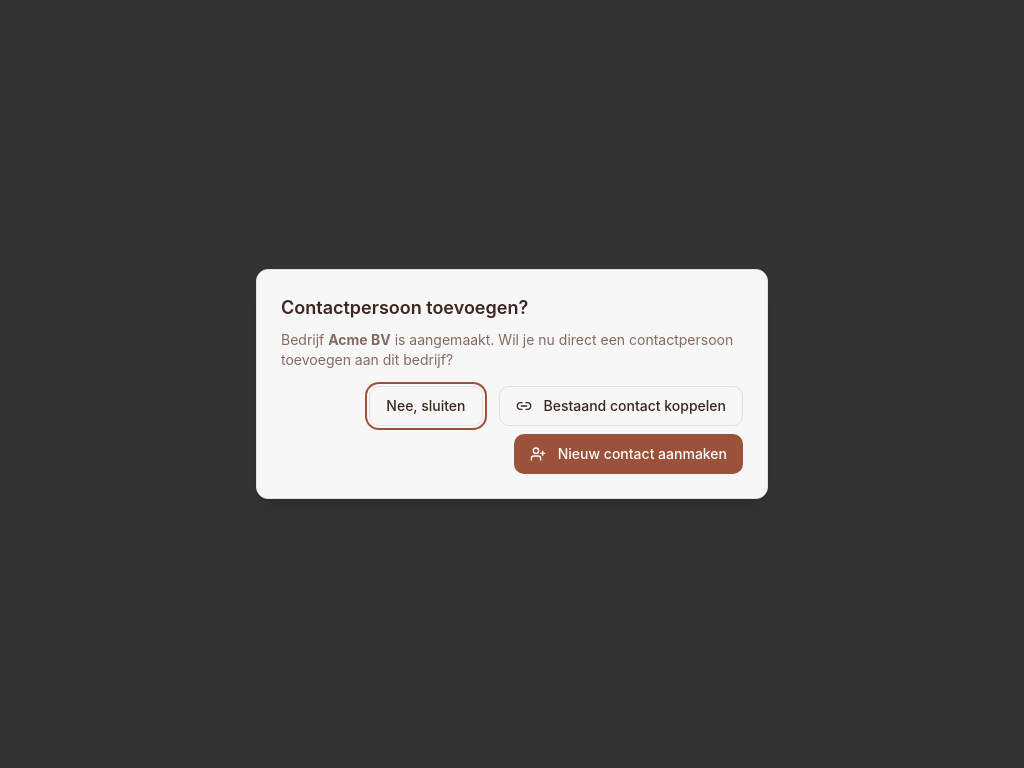
Scenario: PostCompanyContactFlow › "Ja, nog één" reopens the form with empty fields
Click the button "Nieuw contact aanmaken".
click(628, 454)  # box x1=514 y1=434 x2=743 y2=474
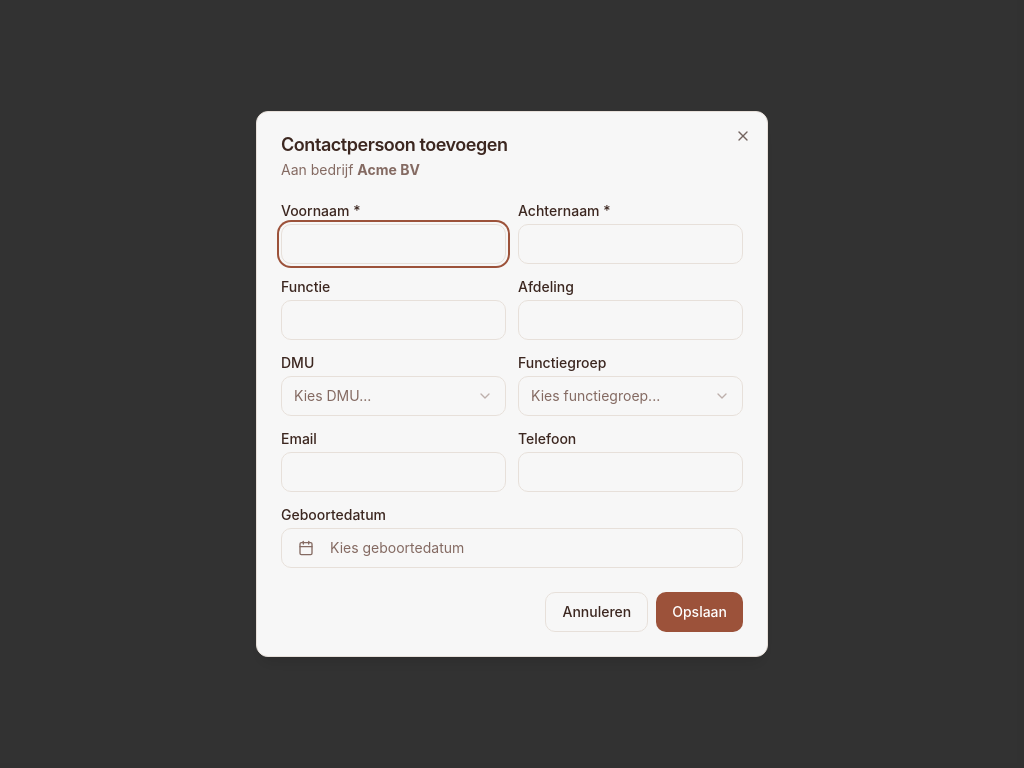
Expected: the heading "Contactpersoon toevoegen" is shown, x1=281 y1=134 x2=508 y2=155
Type "Jan" into the field below "Voornaam *".
click(394, 244); type("Jan")  # box x1=281 y1=224 x2=506 y2=264
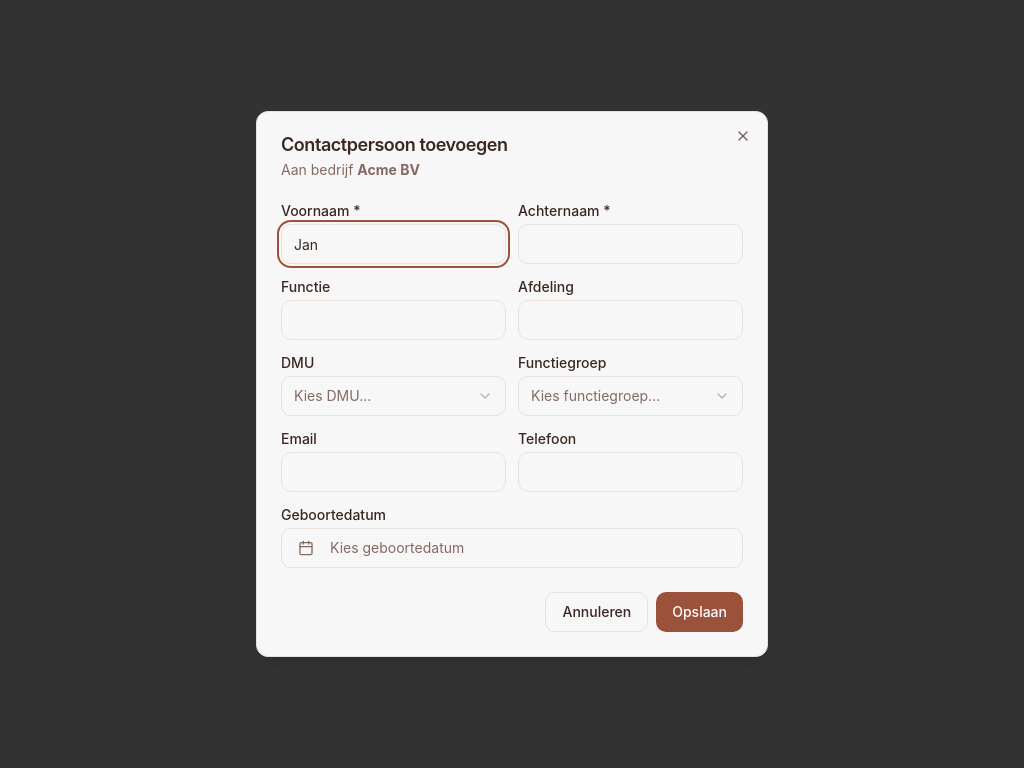
Type "Jansen" into the field below "Achternaam *".
click(630, 244); type("Jansen")  # box x1=518 y1=224 x2=743 y2=264
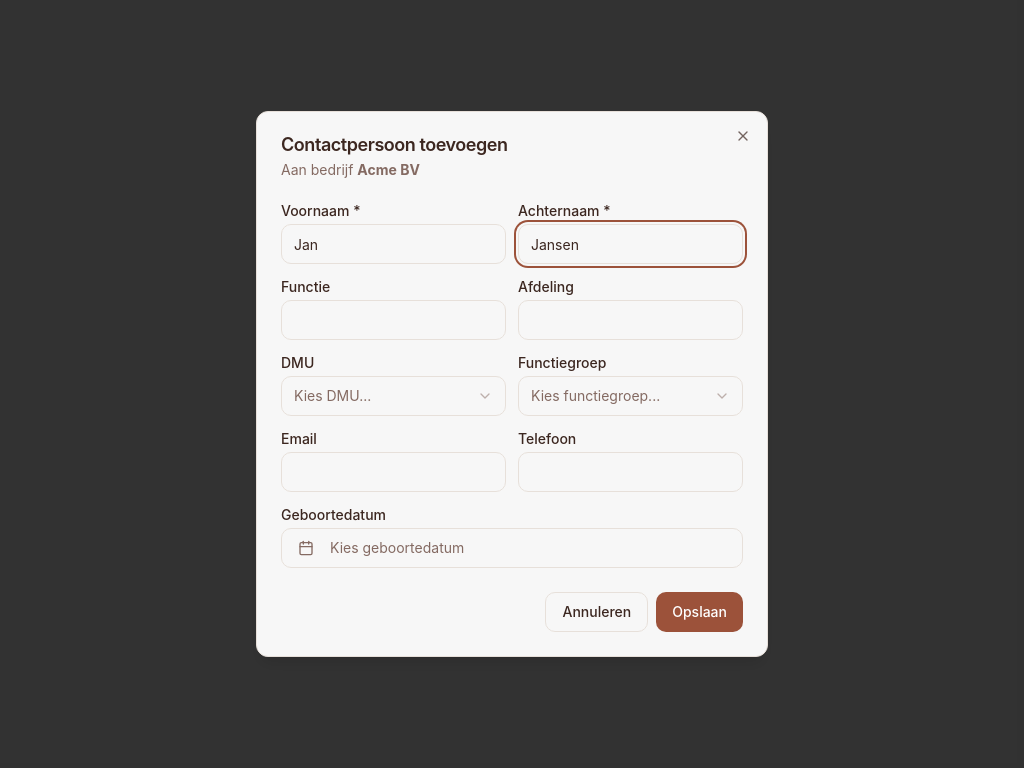
Click the button "Opslaan".
click(700, 612)  # box x1=656 y1=592 x2=743 y2=632
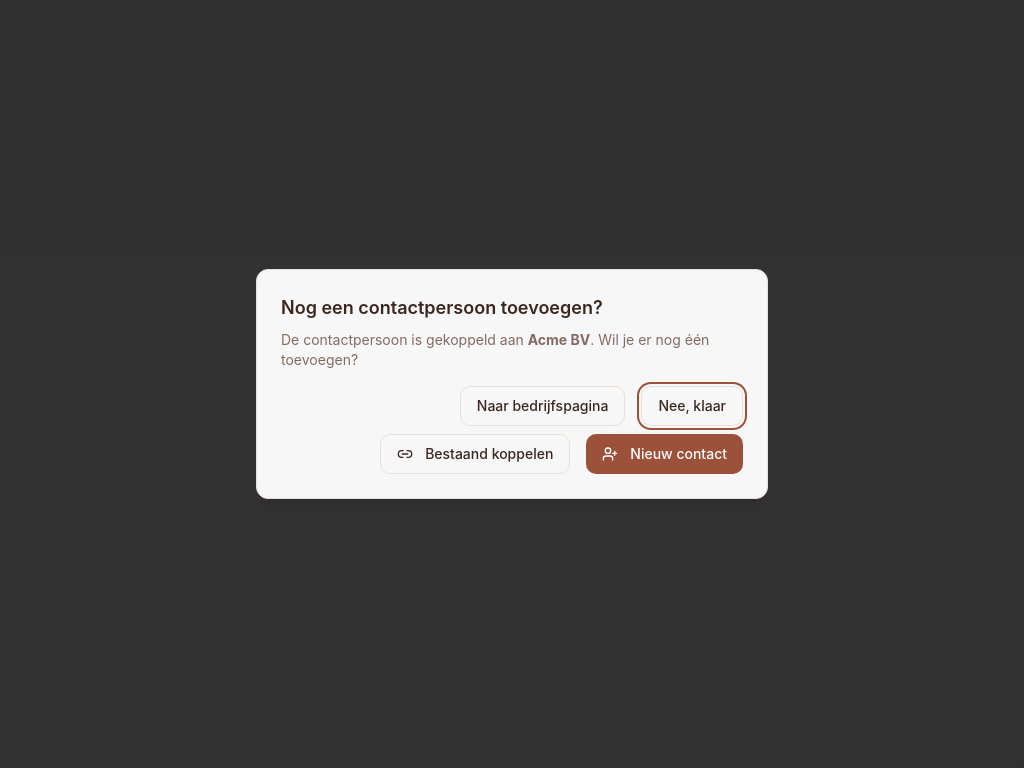
Expected: the heading "Nog een contactpersoon toevoegen?" is shown, x1=281 y1=297 x2=603 y2=318
Click the button "Nieuw contact".
click(665, 454)  # box x1=586 y1=434 x2=743 y2=474
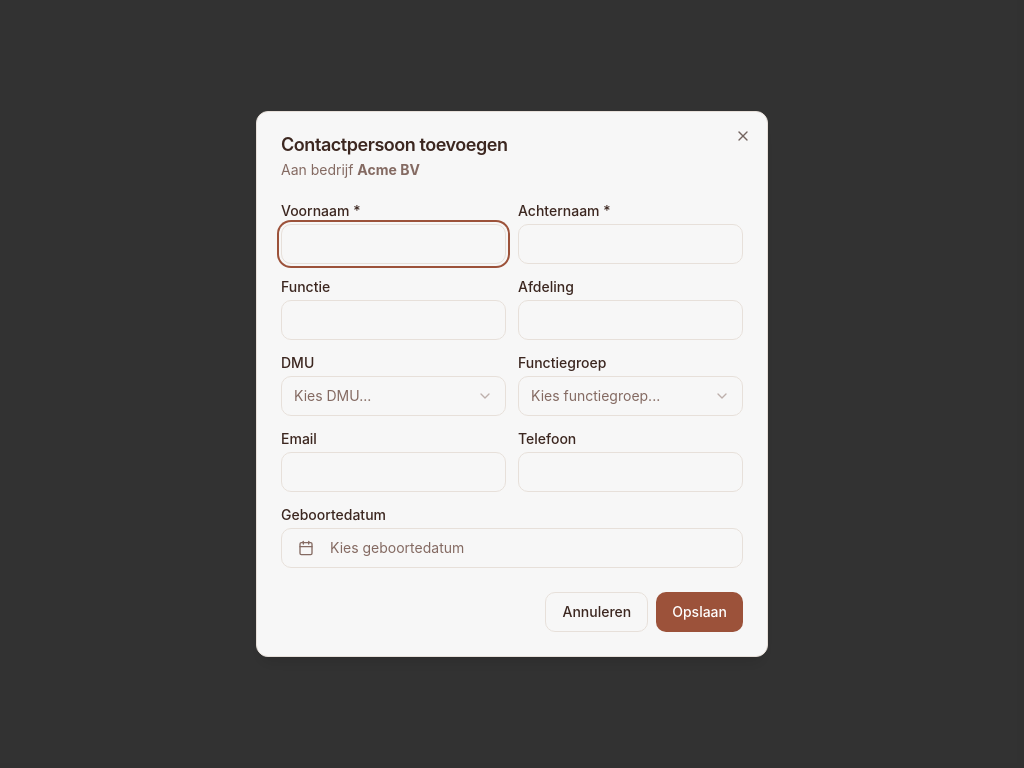
Expected: the heading "Contactpersoon toevoegen" is shown, x1=281 y1=134 x2=508 y2=155
Expected: the field below "Achternaam *" is empty, x1=518 y1=224 x2=743 y2=264
